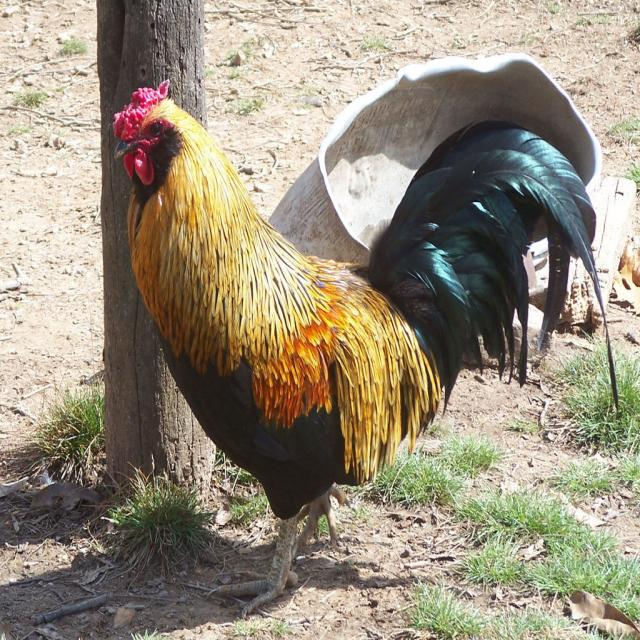Chicken: (113, 74, 616, 614)
